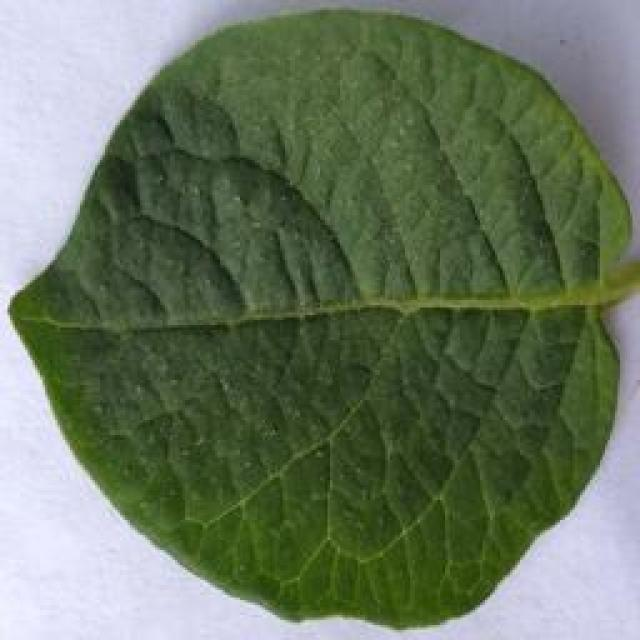Potato_Healthy: (5, 12, 622, 629)
